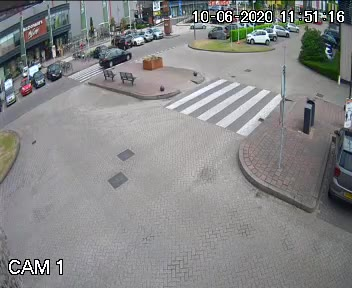car: (94, 45, 136, 68), (183, 18, 208, 30)
